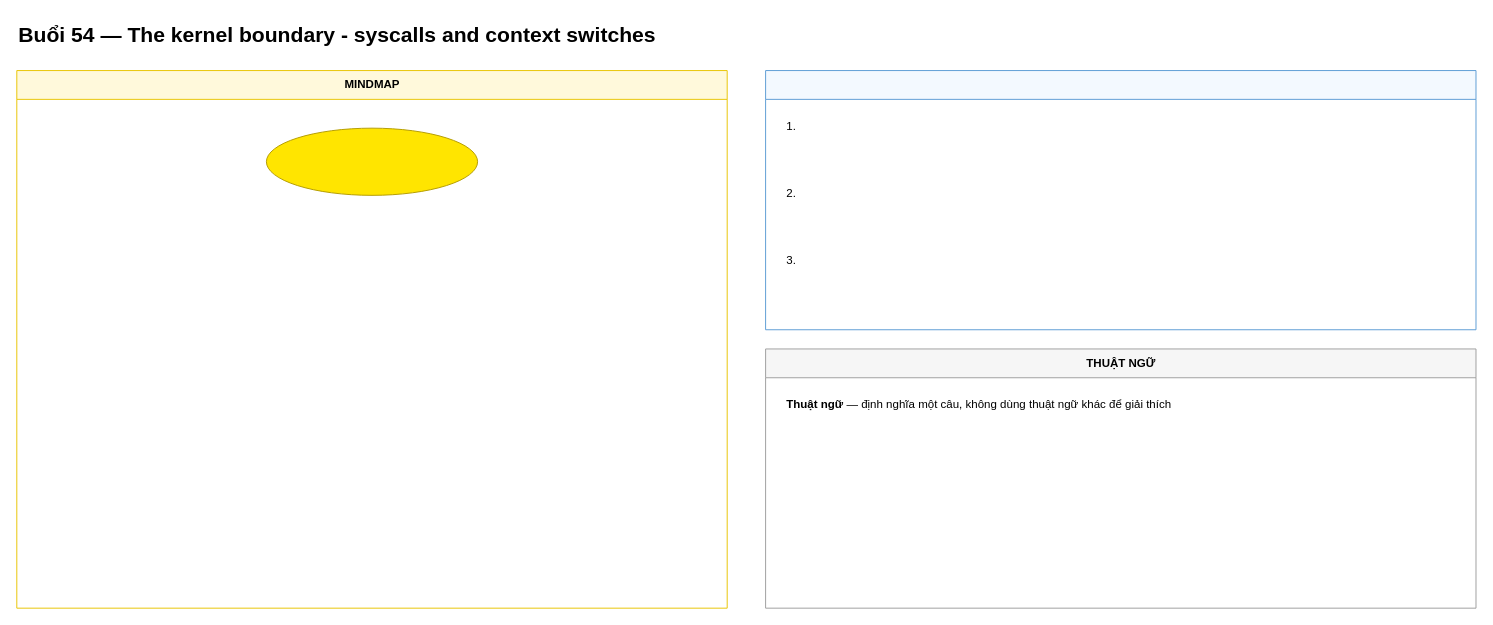
This 1493x625 diagram has some shape labels left out. Each missing label, with the box of its shape:
KEY TAKEAWAY — ba điều phải nhớ: (765, 70, 1476, 330)
The kernel boundary - syscalls and context switches: (265, 127, 478, 195)
